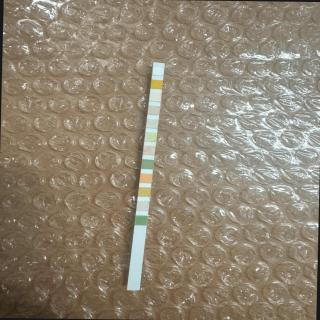mark: (135, 216, 148, 227), (140, 172, 152, 183), (148, 106, 160, 116), (149, 93, 162, 102), (142, 160, 153, 170), (144, 146, 155, 156), (145, 132, 156, 142), (138, 188, 150, 197), (146, 120, 158, 129), (153, 66, 163, 76), (151, 80, 163, 88), (137, 202, 148, 210)
